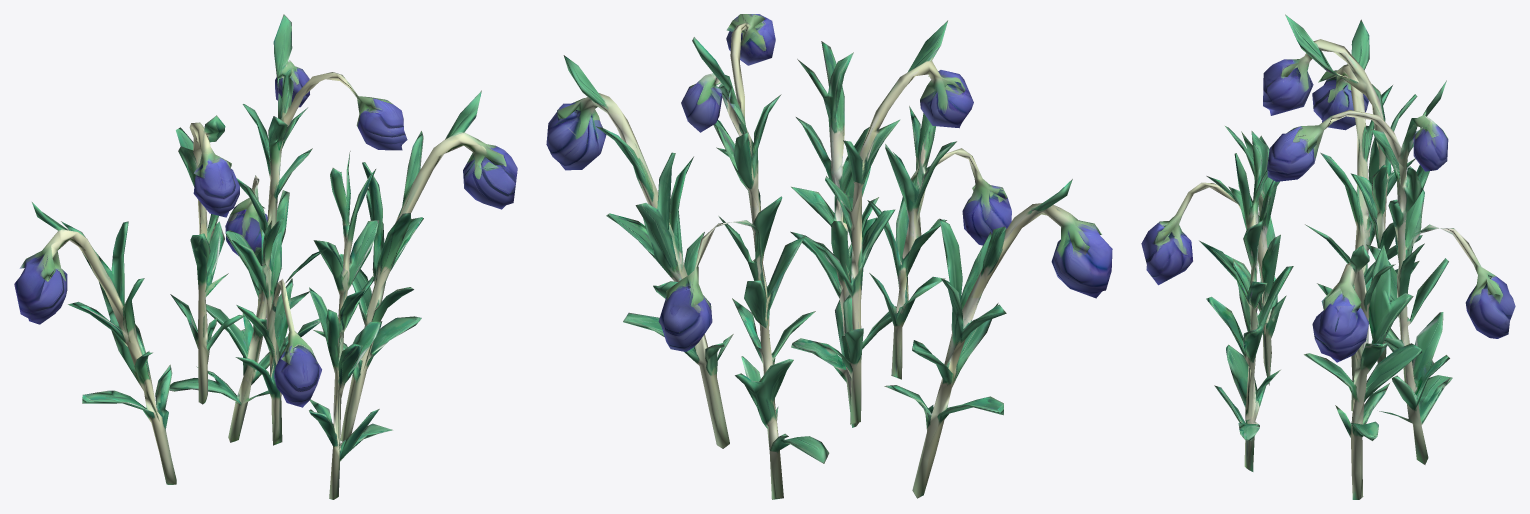
3 renders of one model, left to right at view 1: azimuth 30°, elevation 25°; view 2: azimuth 150°, elevation 25°; view 3: azimuth 270°, elevation 25°, orthographic. The views are drawn at different scales.
Visible parts, largest first — view 1: Mesh_0; view 2: Mesh_0; view 3: Mesh_0.
Boxes of the visible parts, x1,y1,x2,y2 form: Mesh_0: [14, 14, 517, 499]; Mesh_0: [546, 14, 1112, 499]; Mesh_0: [1141, 14, 1515, 499].
Bounding box in the file's own units: 1.9 × 1.49 × 1.21.
1 material, 1 textured.
